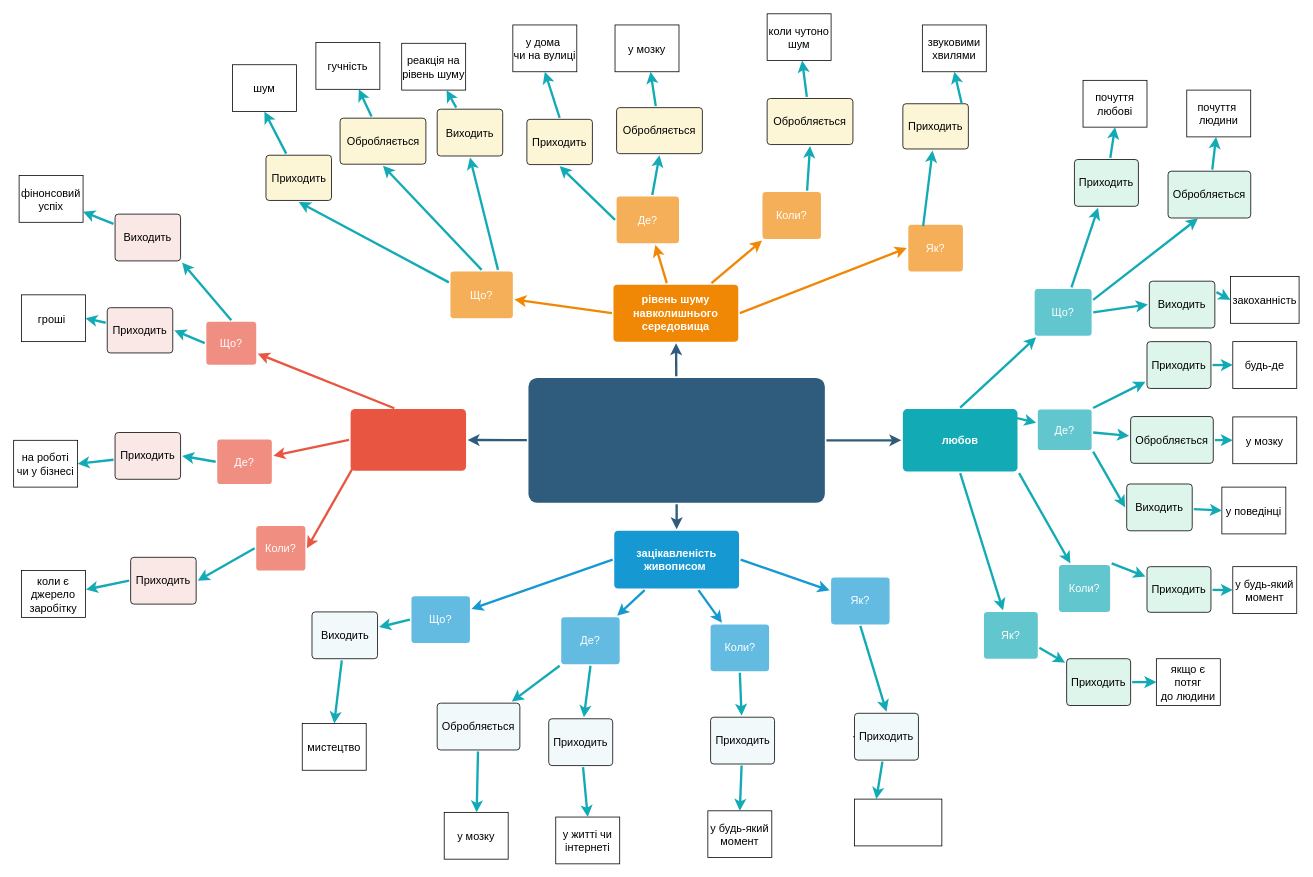
Some shapes in this 1313 by 877 pixel diagram are drawn without their labels. Here are the shapes that lost their labels. From the top down, the centre of each, then its label:
[408,439]: фінансова стабільниість
[676,440]: Потреби
[898,822]: при зацікавленості у мистецтві
